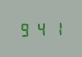four: (34, 20, 48, 36)
nine: (18, 20, 32, 37)
one: (49, 19, 63, 36)
